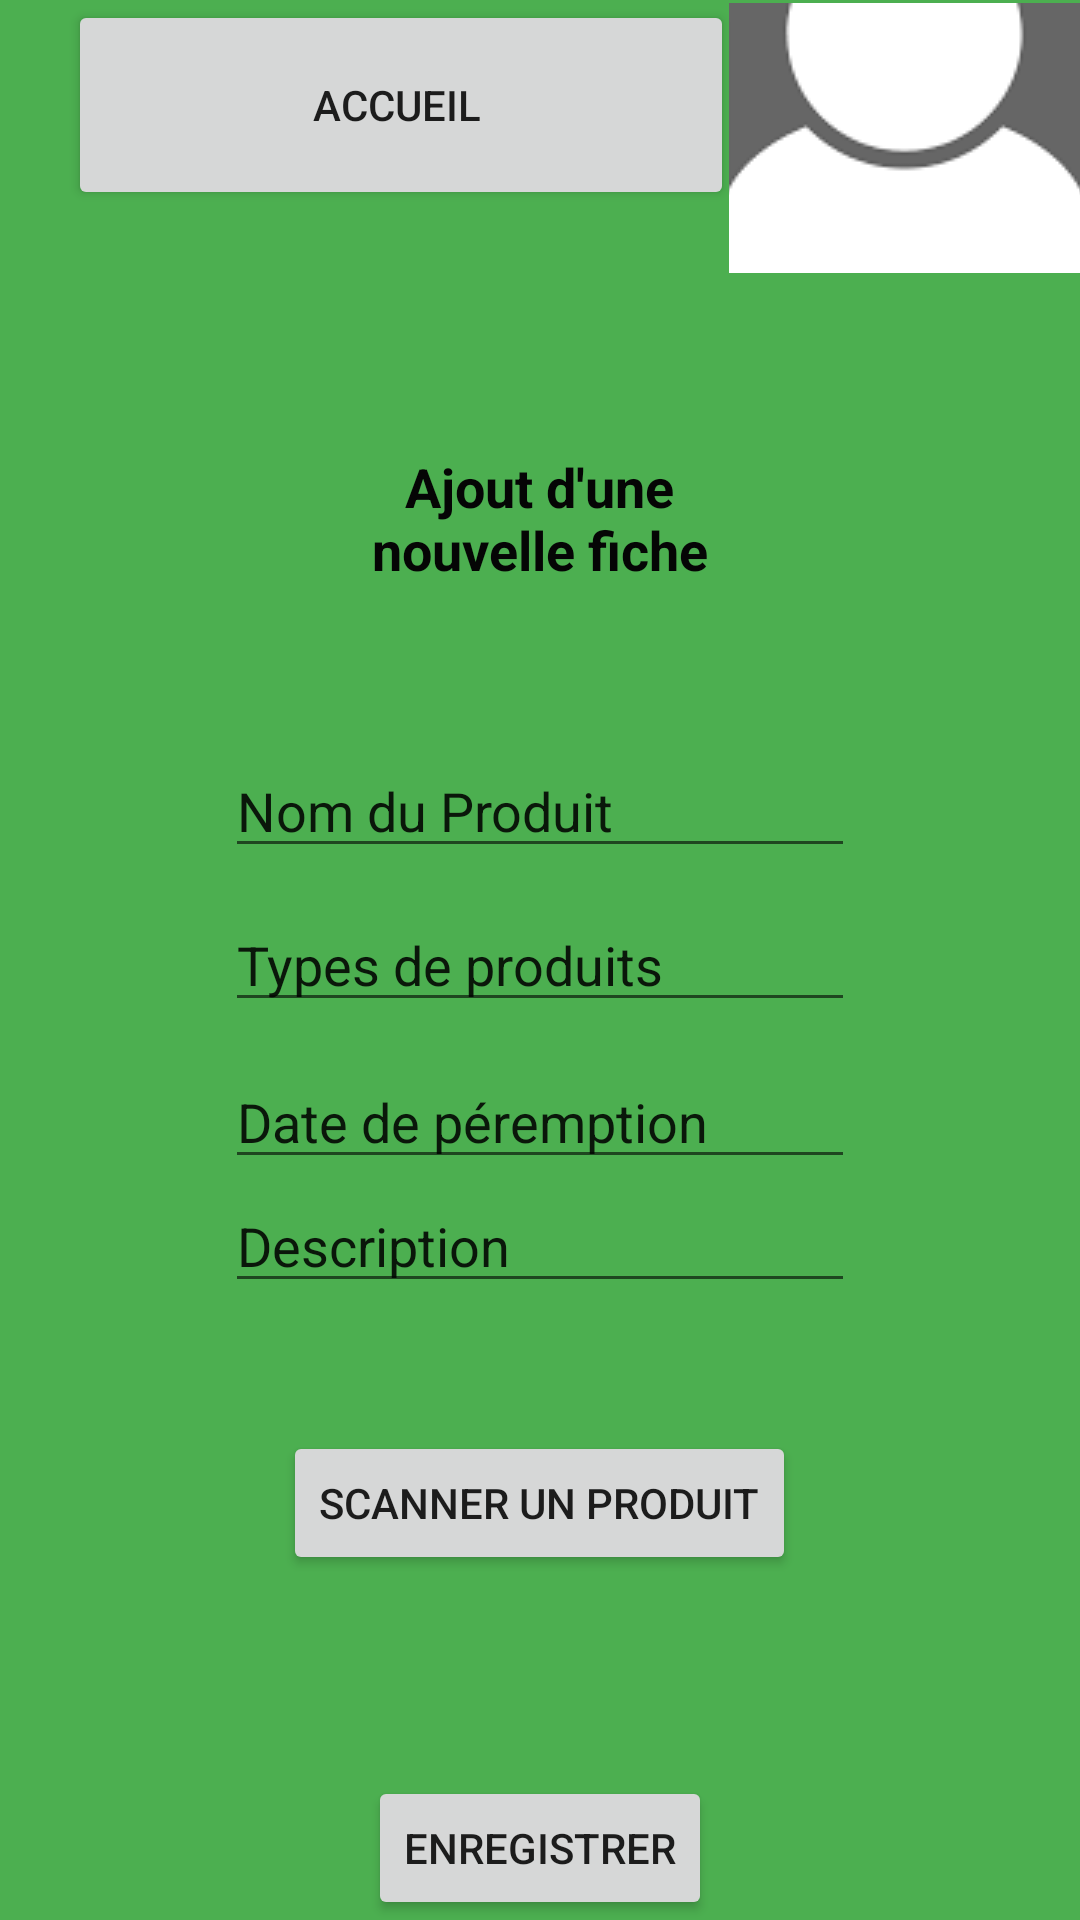

Where to tap for icons on this 1080px x 1920px app screen, as [x,y]:
compte: [904,138]
